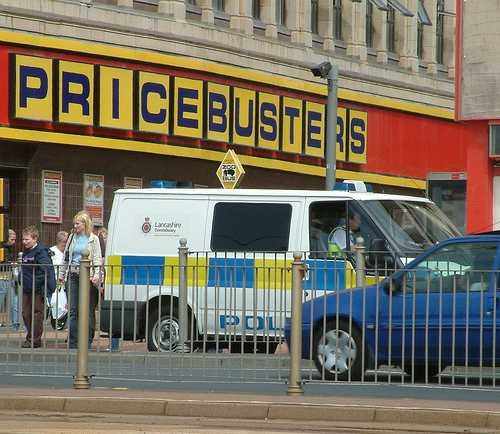Ambulance: (83, 177, 481, 353)
